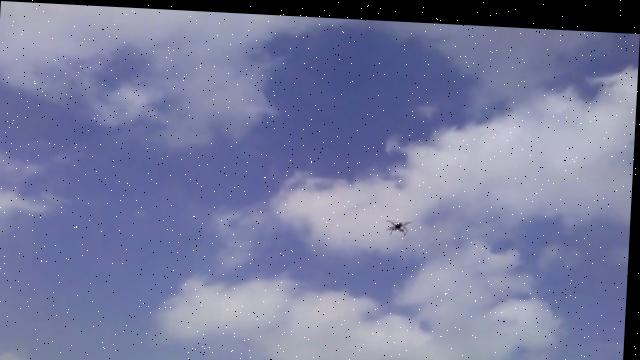drone: (385, 211, 419, 231)
